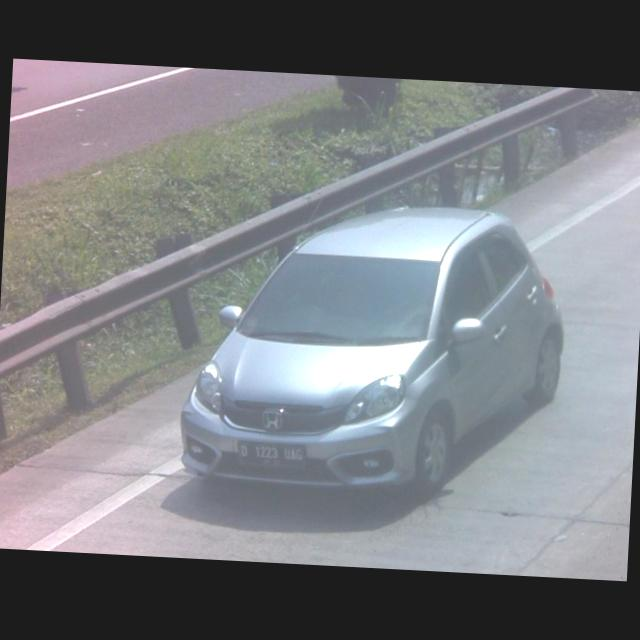plate: (234, 440, 308, 470)
